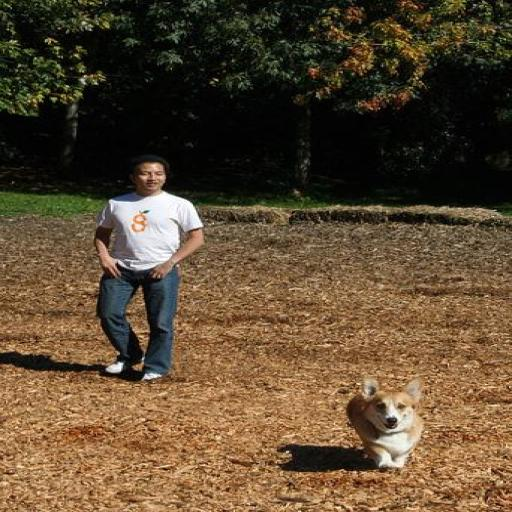dog_face: (347, 378, 436, 431)
